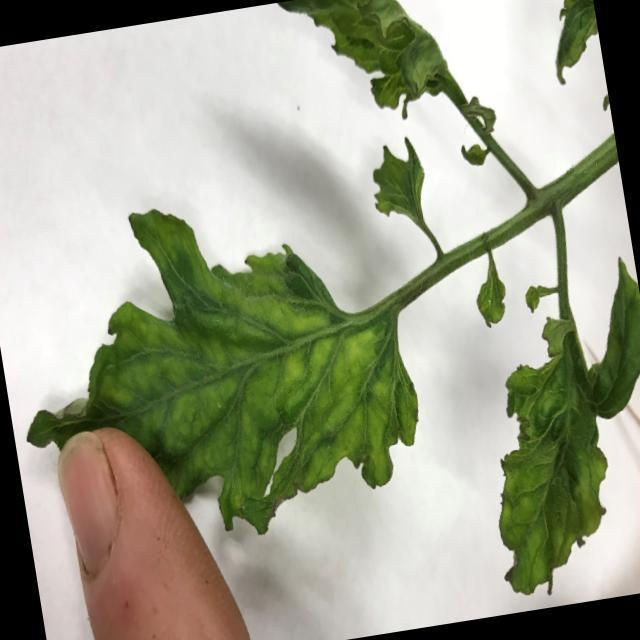Mosaic Virus: (55, 186, 418, 528), (472, 302, 620, 610)
